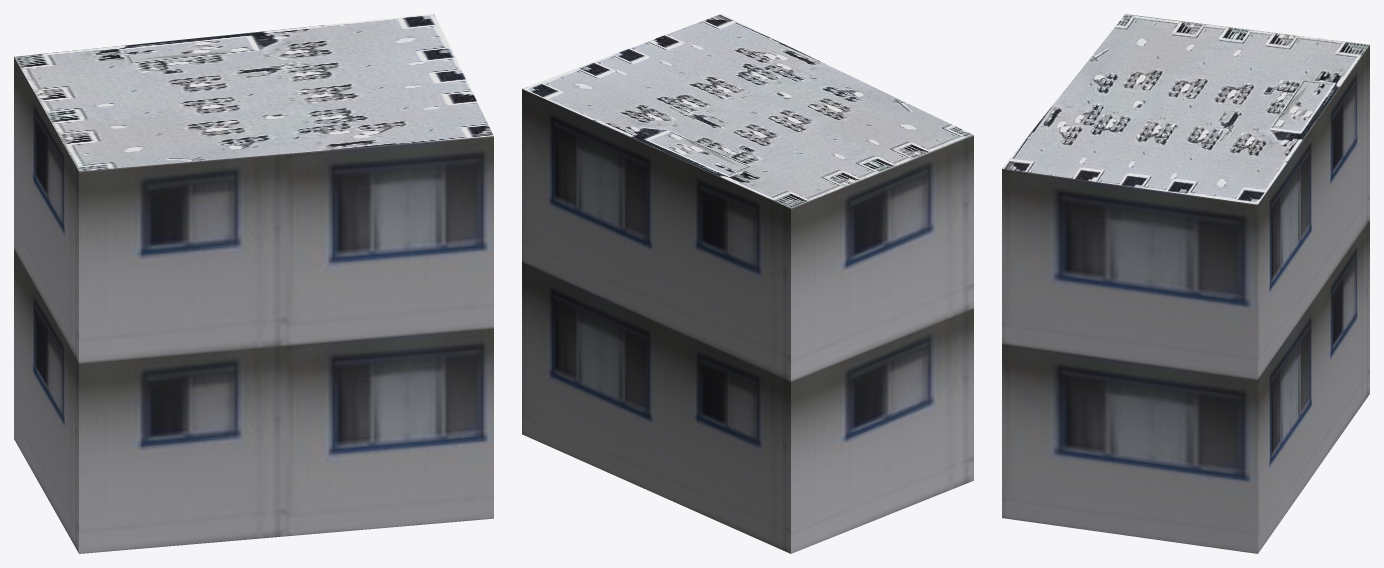
Rendered from ResTex__402.fbx.
3 renders of one model, left to right at view 1: azimuth 30°, elevation 25°; view 2: azimuth 150°, elevation 25°; view 3: azimuth 270°, elevation 25°, orthographic. The views are drawn at different scales.
Parts seen in each view (by area): view 1: CityEngineMaterial_9_m, CityEngineMaterial_4_m; view 2: CityEngineMaterial_9_m, CityEngineMaterial_4_m; view 3: CityEngineMaterial_9_m, CityEngineMaterial_4_m.
Boxes of the visible parts, x1,y1,x2,y2 form: CityEngineMaterial_9_m: [14, 57, 493, 553]; CityEngineMaterial_4_m: [14, 14, 493, 171]; CityEngineMaterial_9_m: [522, 89, 973, 553]; CityEngineMaterial_4_m: [522, 14, 973, 208]; CityEngineMaterial_9_m: [1002, 45, 1369, 553]; CityEngineMaterial_4_m: [1002, 14, 1369, 204].
Size of the model in its own units: 7.02 by 6 by 5.72.
Materials: 2 (2 with a texture image).
